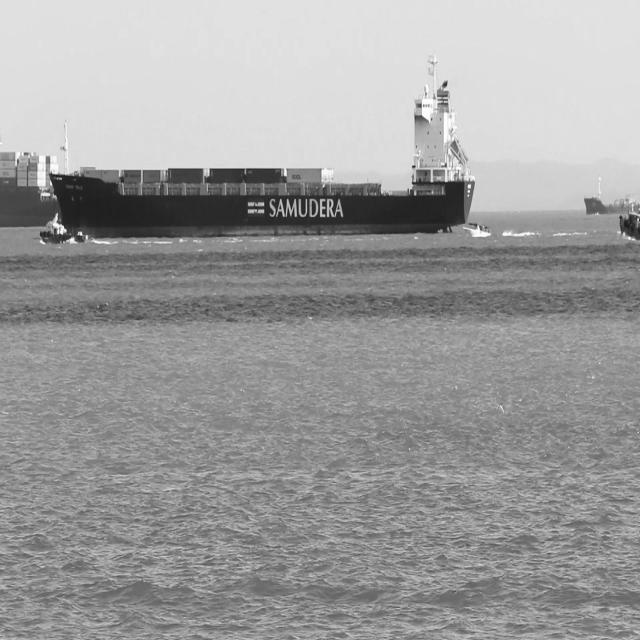ship: (49, 49, 476, 239), (0, 148, 59, 228), (582, 177, 640, 216), (38, 210, 91, 243), (618, 212, 640, 241), (461, 220, 492, 237)
